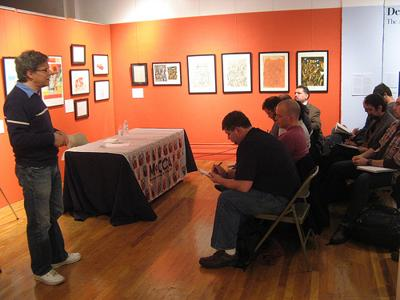person: (198, 110, 299, 270)
